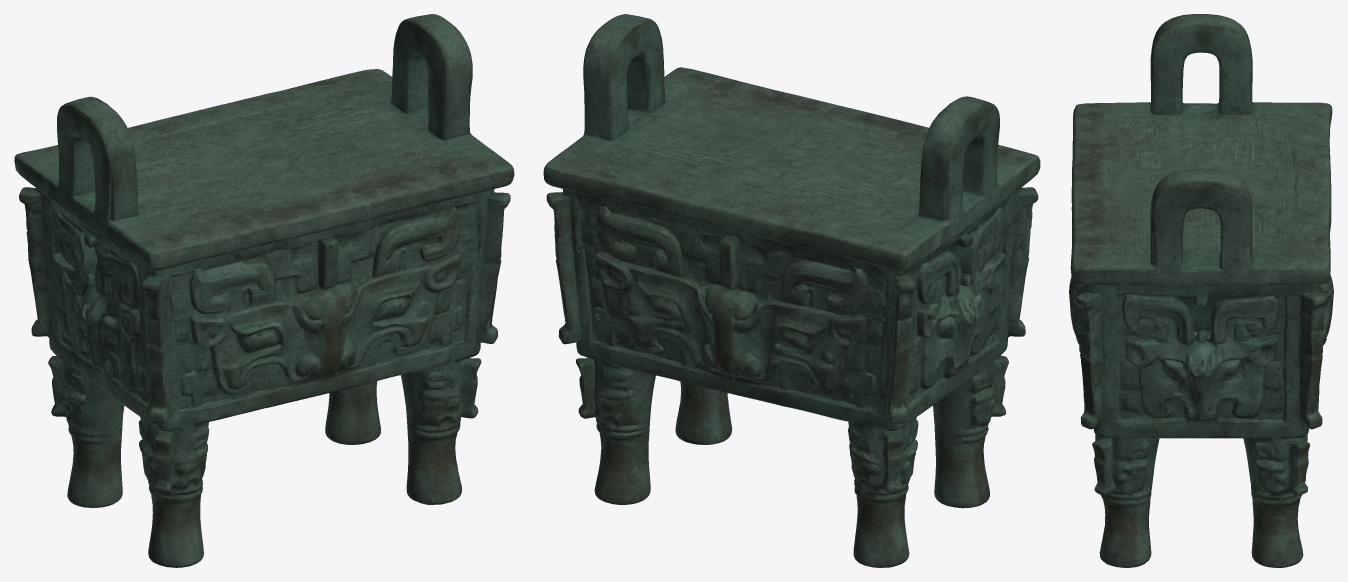
File: ding.glb
3 renders of one model, left to right at view 1: azimuth 30°, elevation 25°; view 2: azimuth 150°, elevation 25°; view 3: azimuth 270°, elevation 25°, orthographic. The views are drawn at different scales.
Parts seen in each view (by area): view 1: world; view 2: world; view 3: world.
Part boxes in pixels (bbox=[...]): world: bbox=[14, 14, 514, 567]; world: bbox=[543, 14, 1040, 567]; world: bbox=[1069, 14, 1333, 567].
Size of the model in its own units: 0.8527 by 0.95 by 0.5644.
Materials: 1 (1 with a texture image).
